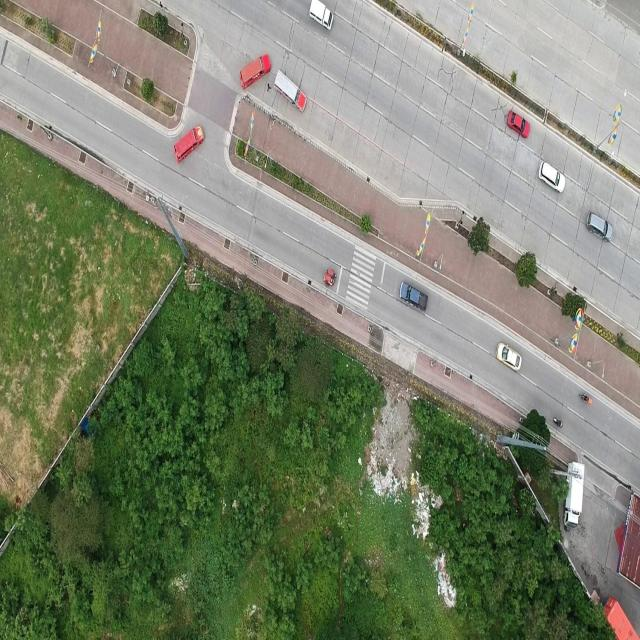Car: (500, 99, 534, 143), (392, 276, 429, 316), (536, 156, 566, 200), (494, 337, 528, 375), (304, 0, 342, 30), (586, 210, 619, 243)
Cycle: (577, 374, 598, 418), (545, 406, 566, 436)
Truck: (599, 579, 638, 640), (564, 448, 587, 544), (274, 66, 310, 118), (170, 122, 209, 164), (236, 52, 270, 95)
